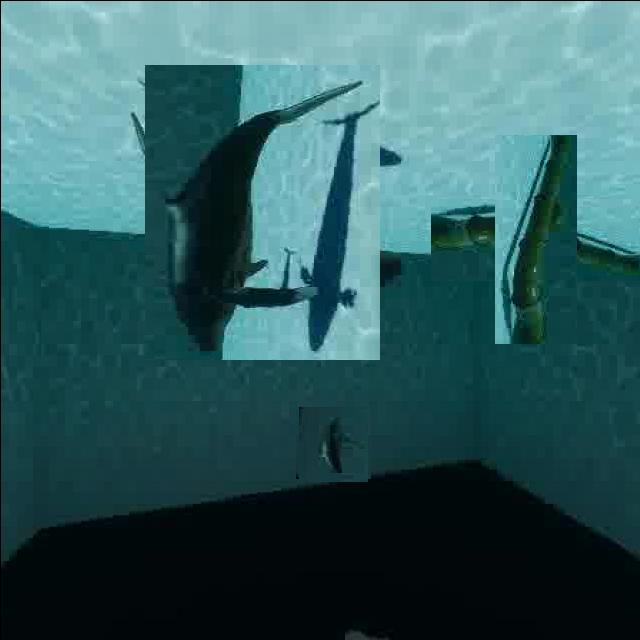Pipe: (462, 166, 608, 312)
Whale: (128, 78, 394, 344), (296, 406, 368, 479)
